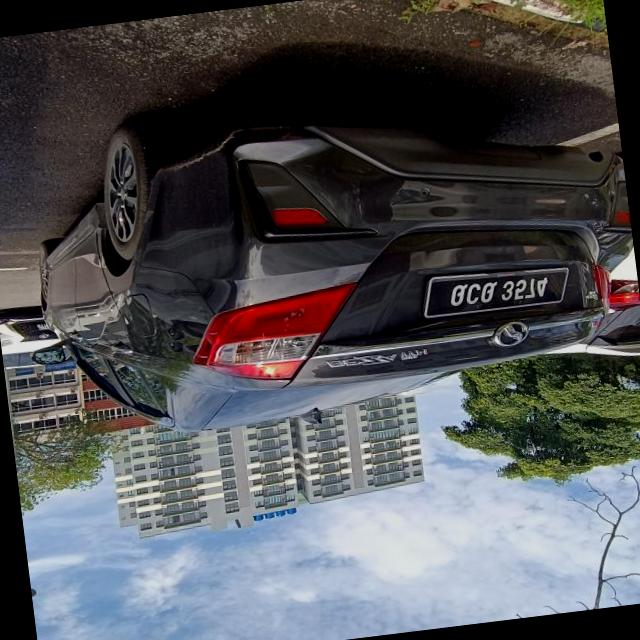PeroduaBezza: (3, 62, 640, 456)
